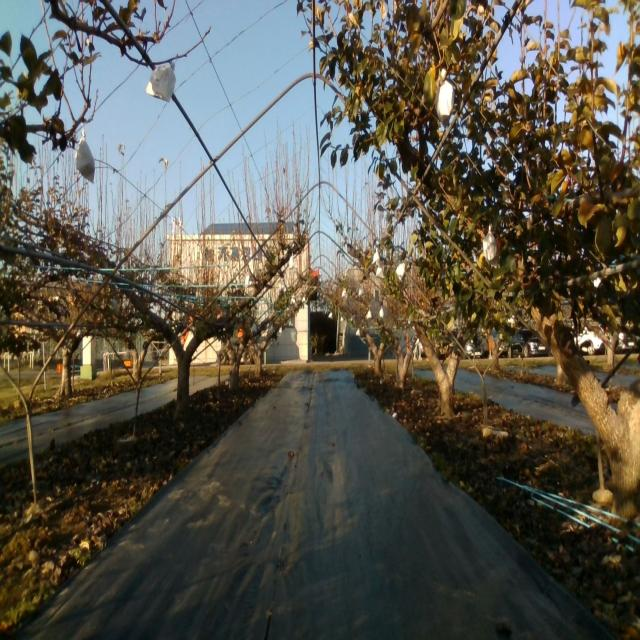pearbags: (145, 58, 176, 105), (74, 128, 95, 180), (436, 81, 455, 126), (482, 231, 498, 267)
